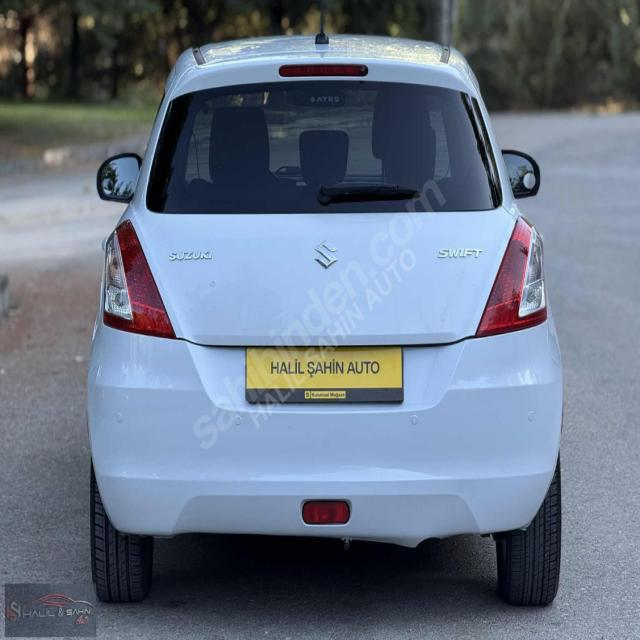suzuki: (312, 237, 339, 273)
